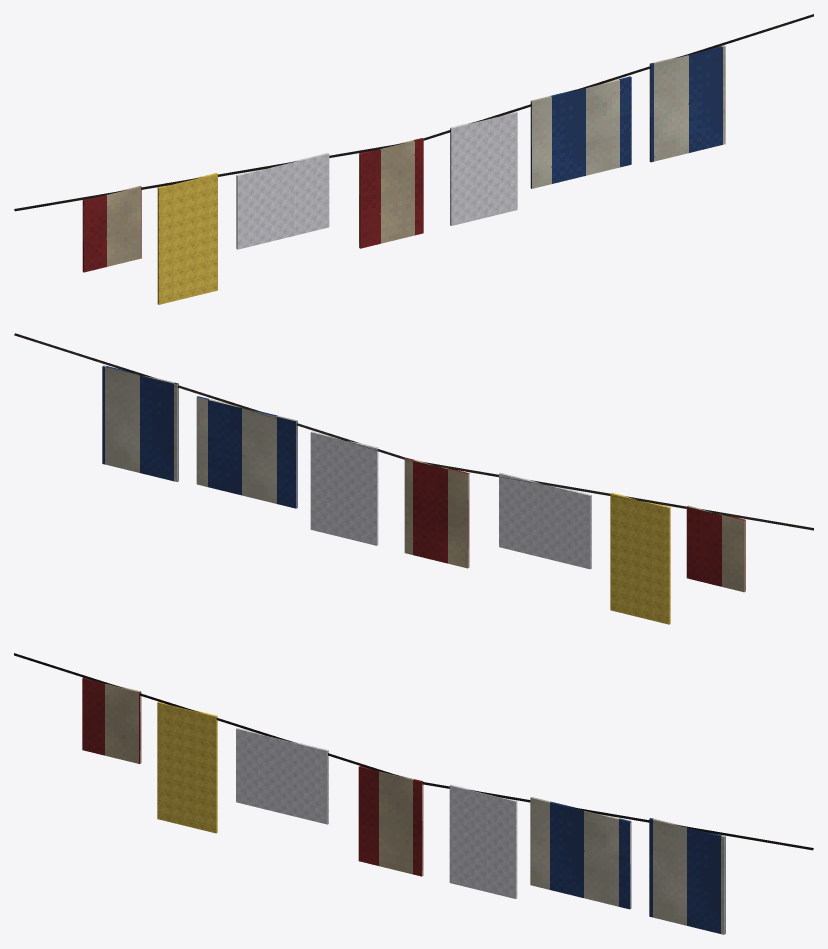
The model's file is ropa_tendida.obj.
3 views of the same model, one above another, from view 1: azimuth 30°, elevation 25°; view 2: azimuth 150°, elevation 25°; view 3: azimuth 330°, elevation 25° (orthographic).
Parts seen in each view (by area): view 1: ropa_tendida; view 2: ropa_tendida; view 3: ropa_tendida.
Boxes of the visible parts, <box> form: ropa_tendida: <box>14,14,813,304</box>; ropa_tendida: <box>14,333,813,624</box>; ropa_tendida: <box>14,653,813,934</box>.
Bounding box in the file's own units: 7 × 1.1 × 0.022.
5 materials, 5 textured.
